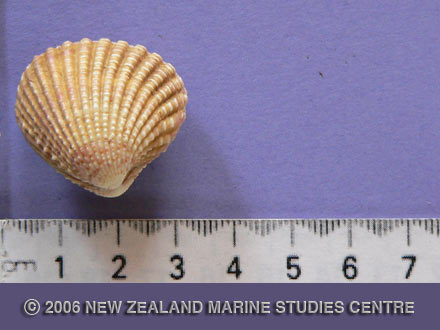cockle: (12, 36, 190, 201)
